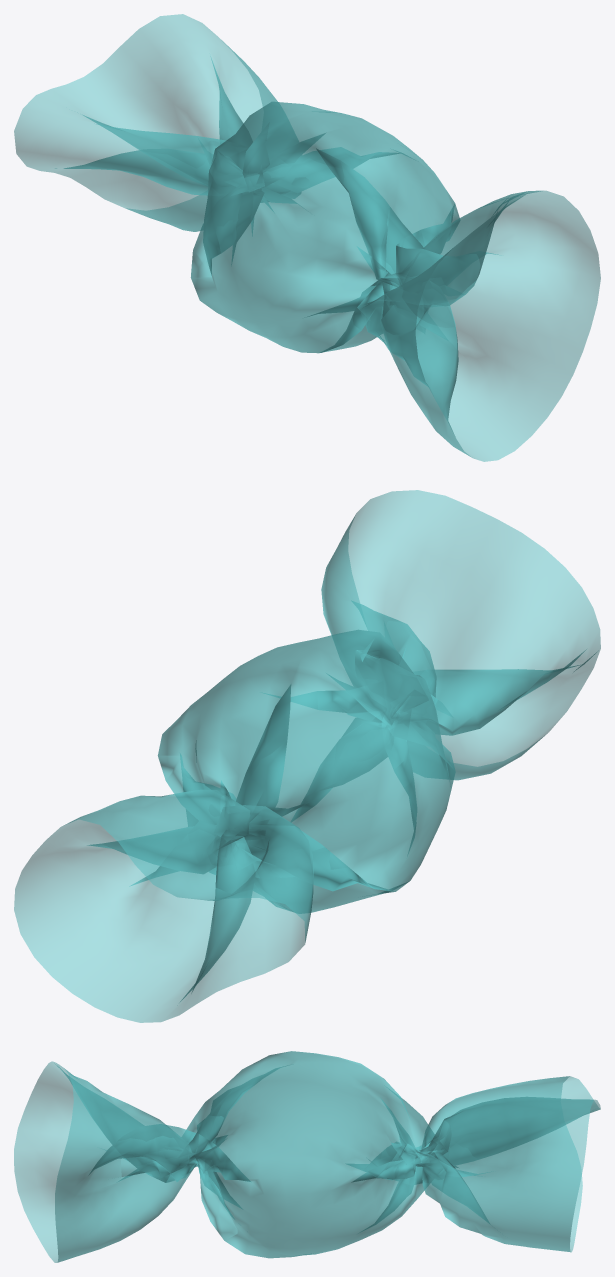
The model's file is bon bon.fbx.
The picture shows the model from 3 angles, top to bottom: view 1: azimuth 30°, elevation 25°; view 2: azimuth 150°, elevation 25°; view 3: azimuth 270°, elevation 25°; orthographic projection. The views are drawn at different scales.
Visible parts, largest first — view 1: Cylinder.002; view 2: Cylinder.002; view 3: Cylinder.002.
Boxes of the visible parts, x1=… form: Cylinder.002: x1=14, y1=14, x2=600, y2=461; Cylinder.002: x1=14, y1=490, x2=600, y2=1022; Cylinder.002: x1=14, y1=1051, x2=600, y2=1262.
Bounding box in the file's own units: 275 × 239 × 638.
